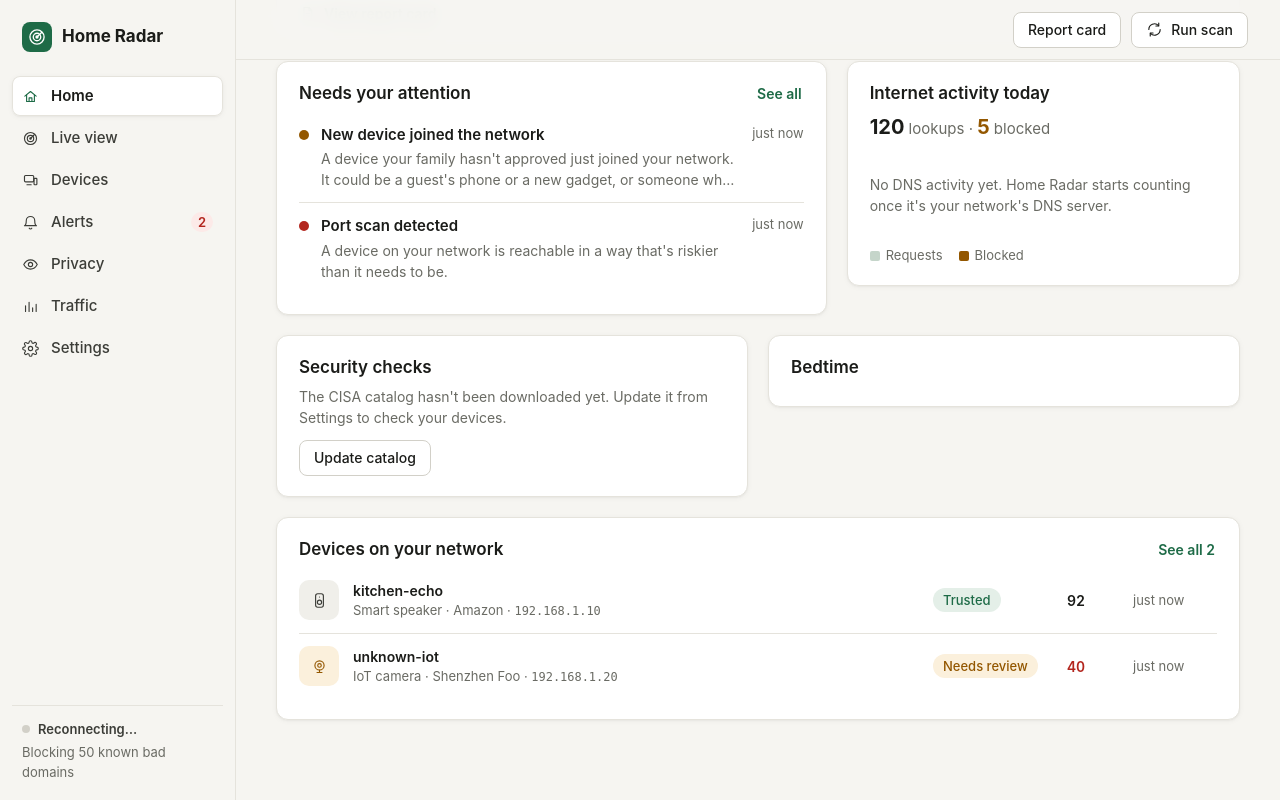
Scenario: Vulnerability checks › offers to download the catalog when it is empty
The image size is (1280, 800).
(page scrolled)
Expected: the text "hasn't been downloaded yet" is shown, [299, 388, 708, 426]
Click the button "Update catalog".
click(365, 458)  # box [299, 440, 431, 476]
(page scrolled)
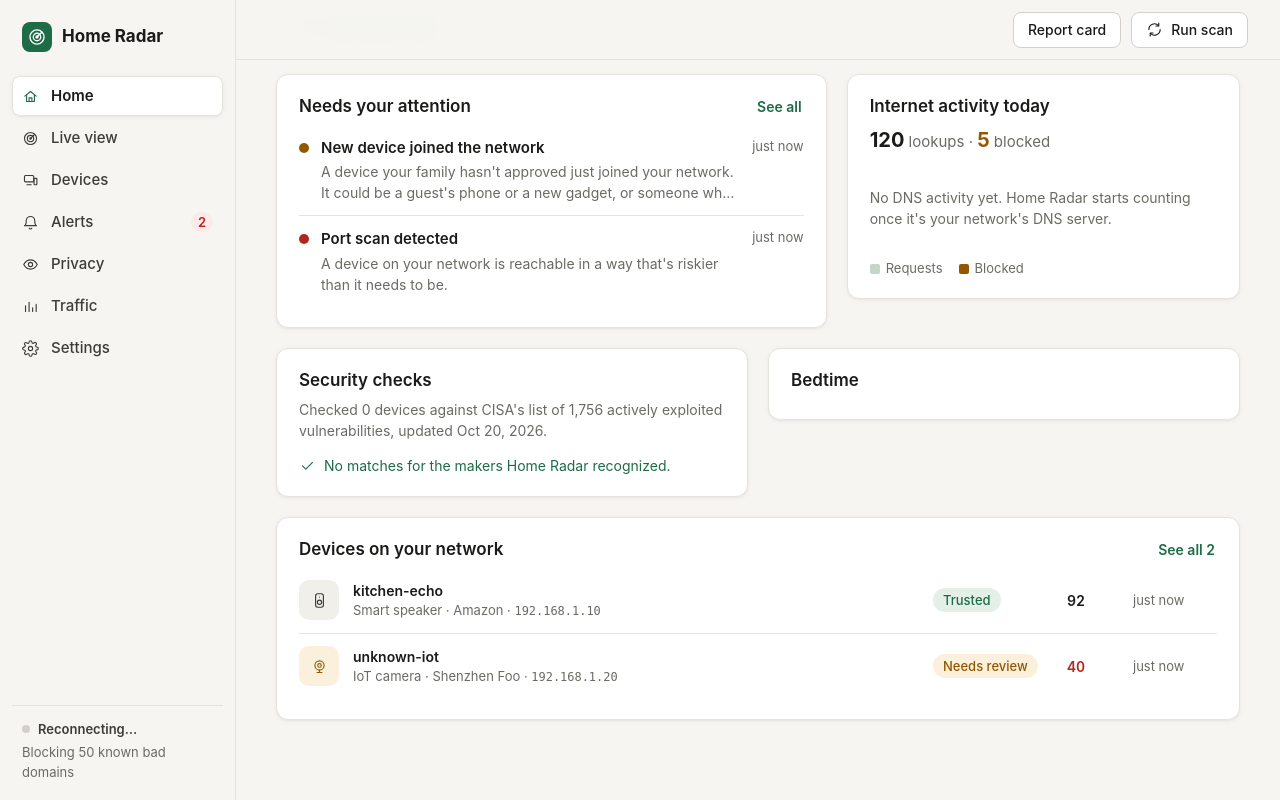
Now the text "1,756 actively exploited vulnerabilities" is shown, box [299, 401, 722, 439]
